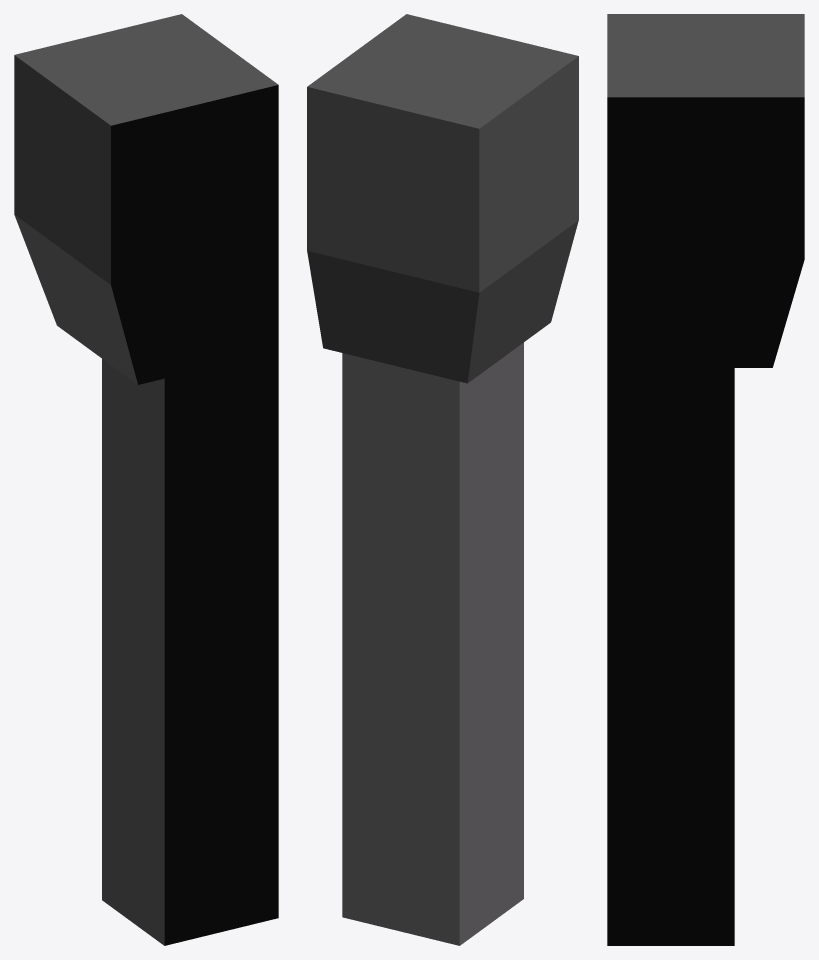
File: Pillar_Quarter.fbx
3 renders of one model, left to right at view 1: azimuth 30°, elevation 25°; view 2: azimuth 150°, elevation 25°; view 3: azimuth 270°, elevation 25°, orthographic. The views are drawn at different scales.
Parts seen in each view (by area): view 1: Pillar_Quarter; view 2: Pillar_Quarter; view 3: Pillar_Quarter.
Part boxes in pixels (x1,y1,x2,y2): Pillar_Quarter: (14,14,278,945); Pillar_Quarter: (307,14,578,945); Pillar_Quarter: (607,14,804,945).
Bounding box in the file's own units: 33 × 157 × 33.
